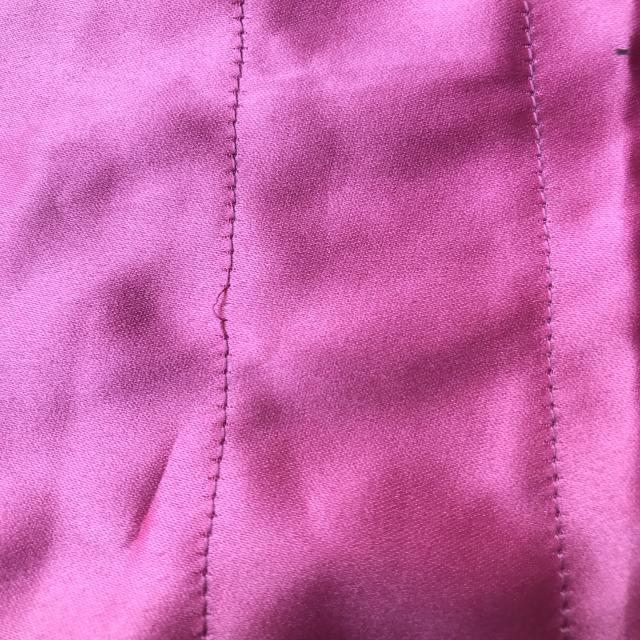skip: (206, 272, 254, 344)
